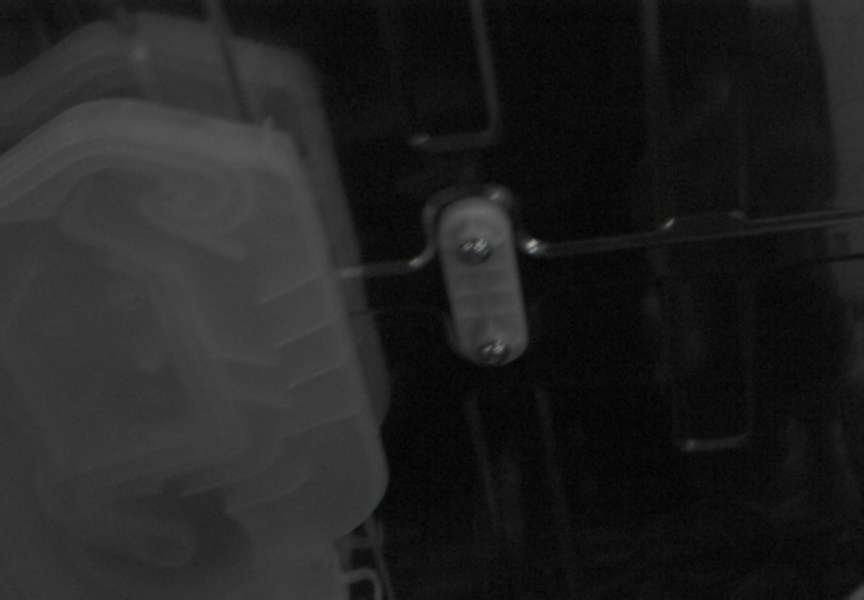screw: (459, 237, 493, 265), (477, 340, 510, 366)
